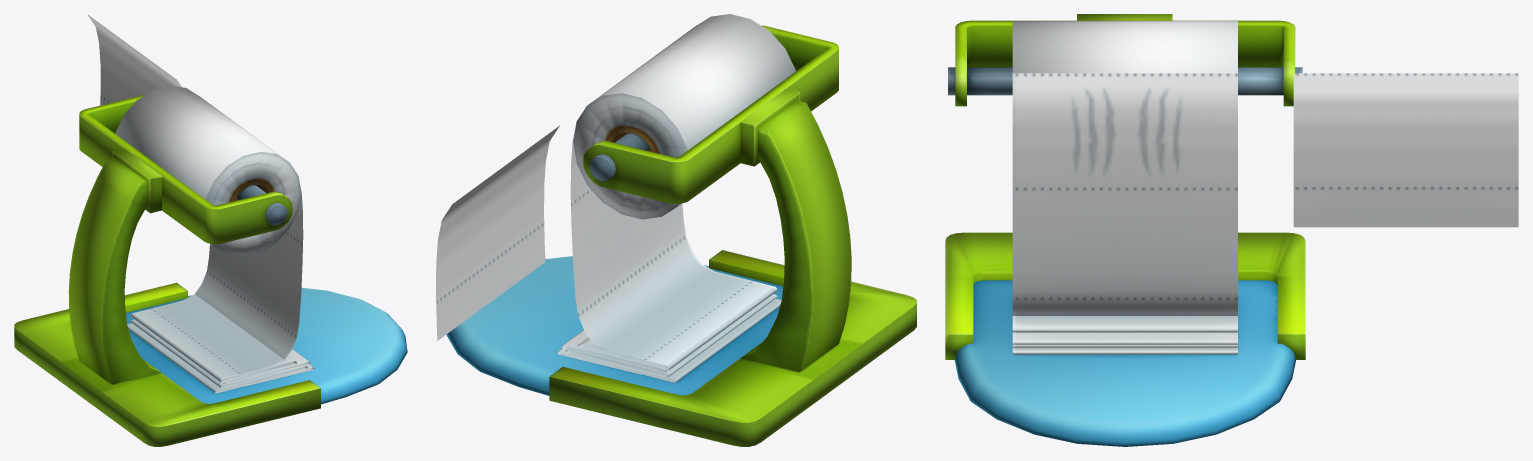
The model's file is MaoZhuaXunLianQi.FBX.
3 renders of one model, left to right at view 1: azimuth 30°, elevation 25°; view 2: azimuth 150°, elevation 25°; view 3: azimuth 270°, elevation 25°, orthographic. The views are drawn at different scales.
Visible parts, largest first — view 1: default06; view 2: default06; view 3: default06.
Boxes of the visible parts, left/top/right/bottom form: default06: left=14, top=14, right=407, bottom=446; default06: left=436, top=14, right=916, bottom=446; default06: left=945, top=14, right=1518, bottom=446.
Size of the model in its own units: 332 by 250 by 425.
3 materials, 3 textured.
